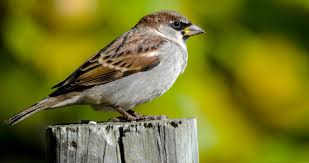hsparrow: (7, 7, 234, 125)
